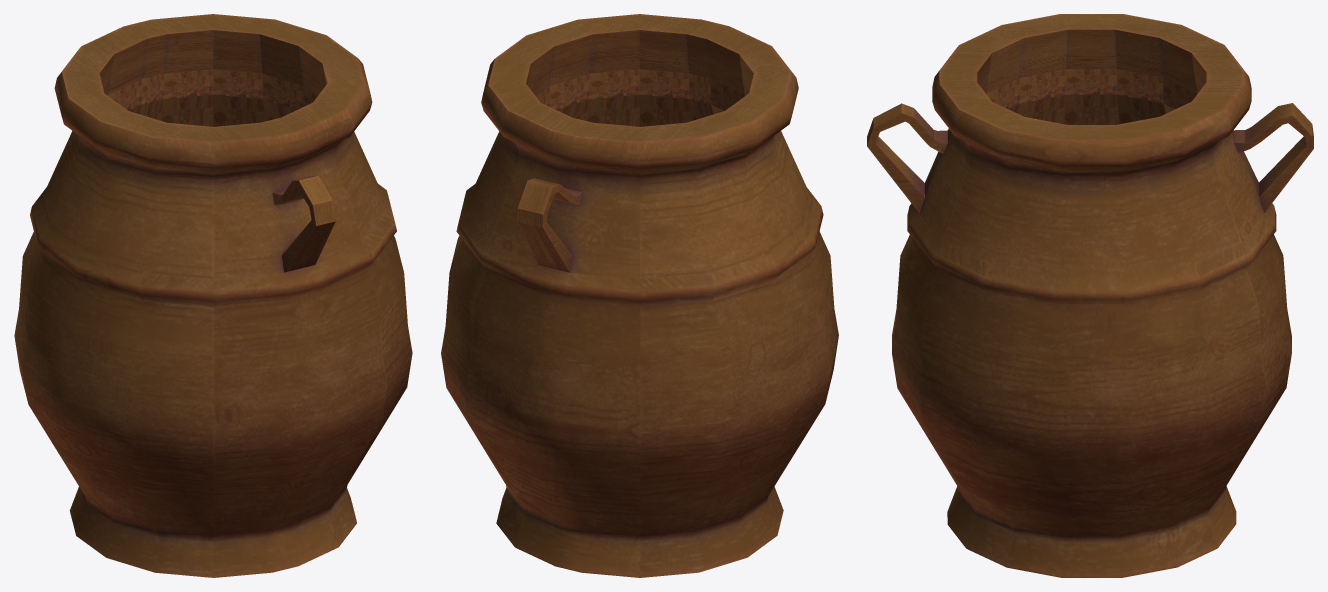
Rendered from bottle2(new).fbx.
3 views of the same model, side by side, from view 1: azimuth 30°, elevation 25°; view 2: azimuth 150°, elevation 25°; view 3: azimuth 270°, elevation 25° (orthographic).
Visible parts, largest first — view 1: pCylinder1; view 2: pCylinder1; view 3: pCylinder1.
Boxes of the visible parts, x1=… form: pCylinder1: x1=14, y1=14, x2=412, y2=577; pCylinder1: x1=441, y1=14, x2=838, y2=577; pCylinder1: x1=867, y1=14, x2=1313, y2=577.
Bounding box in the file's own units: 48.58 × 60.14 × 55.17.
